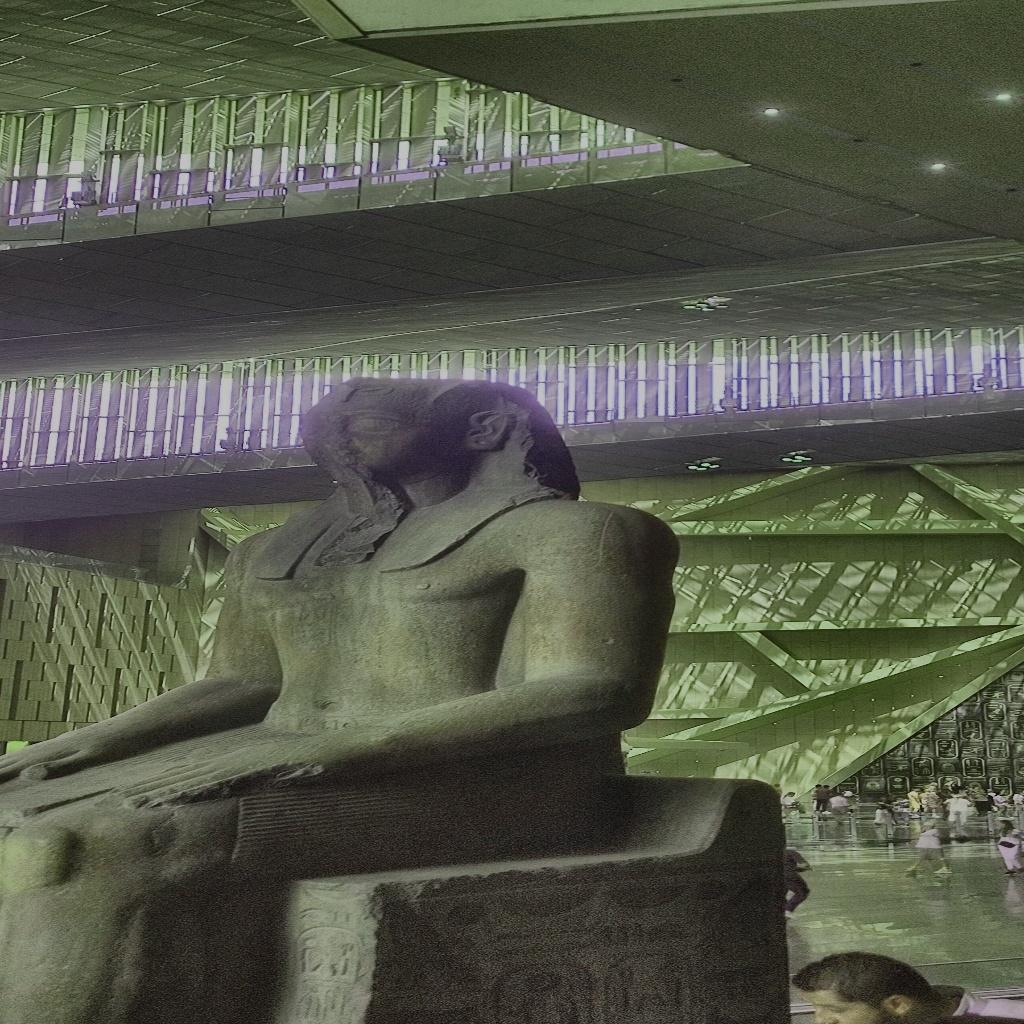Colossal Statue of Middle Kingdom King: (6, 374, 794, 1020)
